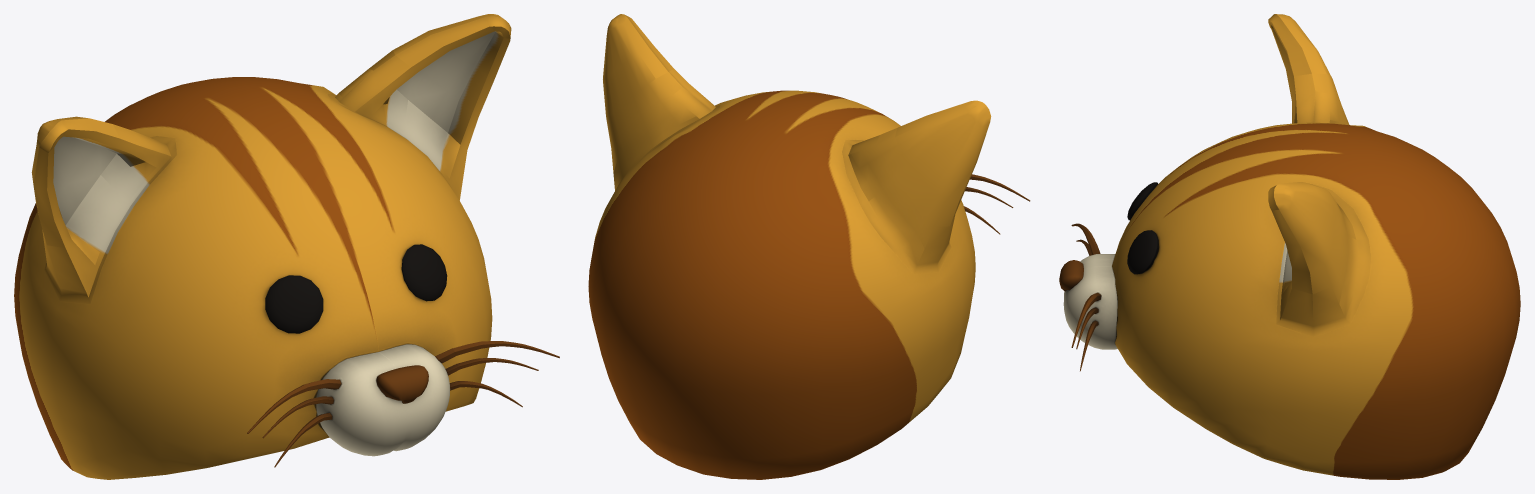
Rendered from catHat.glb.
The picture shows the model from 3 angles, left to right: view 1: azimuth 30°, elevation 25°; view 2: azimuth 150°, elevation 25°; view 3: azimuth 270°, elevation 25°; orthographic projection. The views are drawn at different scales.
Parts seen in each view (by area): view 1: catHat; view 2: catHat; view 3: catHat.
Boxes of the visible parts, x1,y1,x2,y2 form: catHat: (14, 14, 559, 479); catHat: (588, 14, 1030, 479); catHat: (1059, 14, 1520, 479).
Bounding box in the file's own units: 0.3835 × 0.3326 × 0.4058.
Materials: 1 (1 with a texture image).
